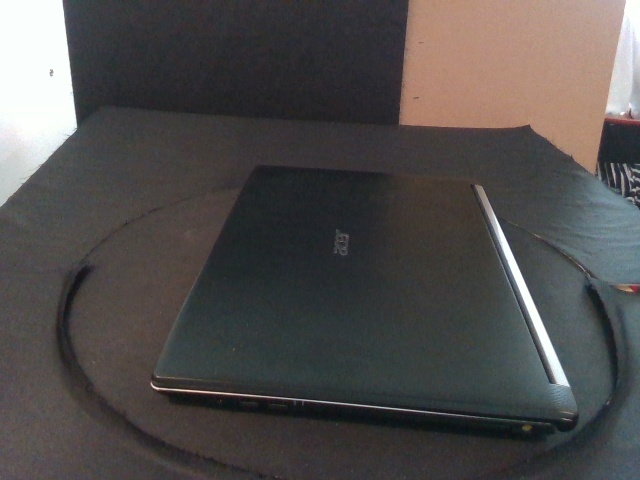laptop: (149, 164, 581, 441)
